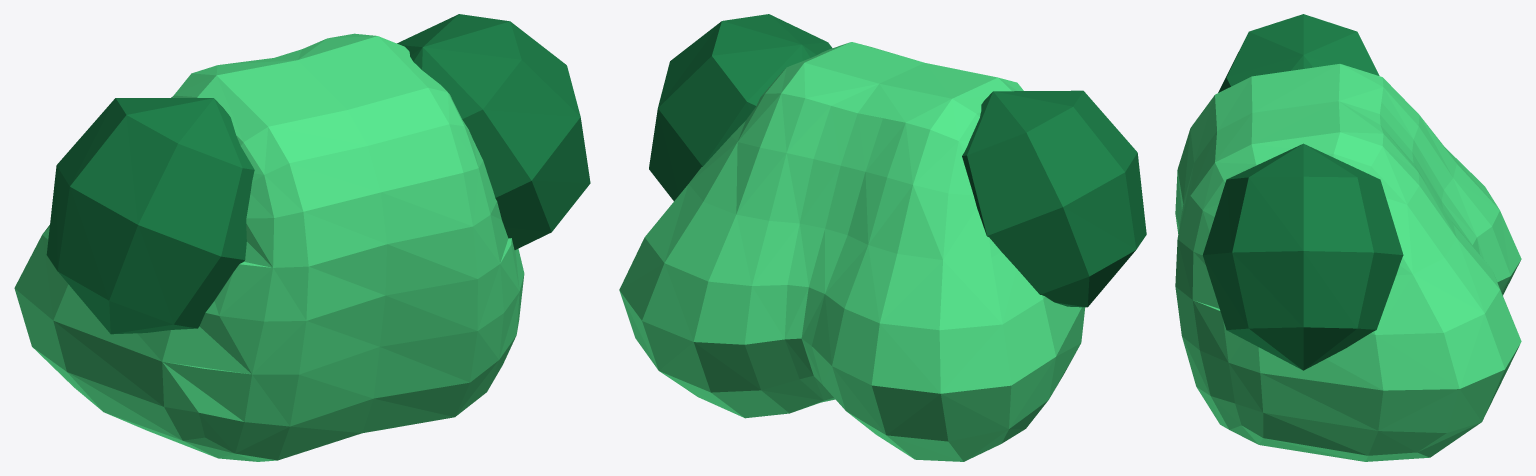
The model's file is robo_body.FBX.
3 views of the same model, side by side, from view 1: azimuth 30°, elevation 25°; view 2: azimuth 150°, elevation 25°; view 3: azimuth 270°, elevation 25° (orthographic). The views are drawn at different scales.
Parts seen in each view (by area): view 1: VIFS001, VIFS002; view 2: VIFS001, VIFS002; view 3: VIFS001, VIFS002.
Part boxes in pixels (x1,y1,x2,y2): VIFS001: (14,33,524,461); VIFS002: (46,14,590,334); VIFS001: (619,42,1085,461); VIFS002: (649,14,1146,307); VIFS001: (1175,64,1521,461); VIFS002: (1202,14,1403,370).
Size of the model in its own units: 1.66 by 1.11 by 1.1.
